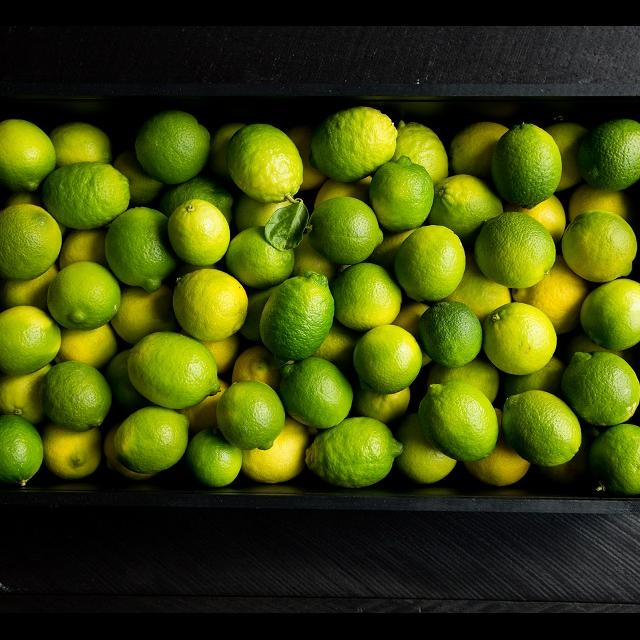lime: (126, 334, 224, 414), (306, 418, 402, 492), (490, 126, 570, 214), (312, 108, 400, 186), (508, 260, 596, 338), (36, 164, 134, 232), (468, 216, 558, 290), (560, 350, 640, 430), (558, 208, 640, 286), (502, 392, 584, 470), (382, 228, 466, 304), (424, 382, 500, 466), (260, 276, 334, 362), (227, 123, 306, 202), (132, 112, 212, 188), (110, 408, 192, 482), (104, 208, 176, 292), (40, 262, 124, 334), (278, 358, 356, 434), (480, 304, 560, 378), (350, 326, 428, 400), (174, 270, 250, 344), (366, 158, 438, 234), (330, 264, 408, 334), (312, 194, 384, 268), (42, 362, 114, 434), (572, 120, 640, 196), (428, 176, 506, 242), (0, 204, 64, 284), (225, 223, 298, 293), (162, 200, 234, 270), (218, 384, 290, 454), (410, 302, 484, 370), (240, 418, 312, 486), (580, 280, 640, 356), (0, 306, 62, 378), (580, 426, 640, 498), (0, 120, 58, 194), (38, 424, 104, 482), (112, 288, 176, 344), (185, 428, 245, 487), (0, 414, 46, 490), (54, 324, 128, 370), (396, 124, 450, 186), (226, 342, 282, 390), (52, 124, 110, 170)
